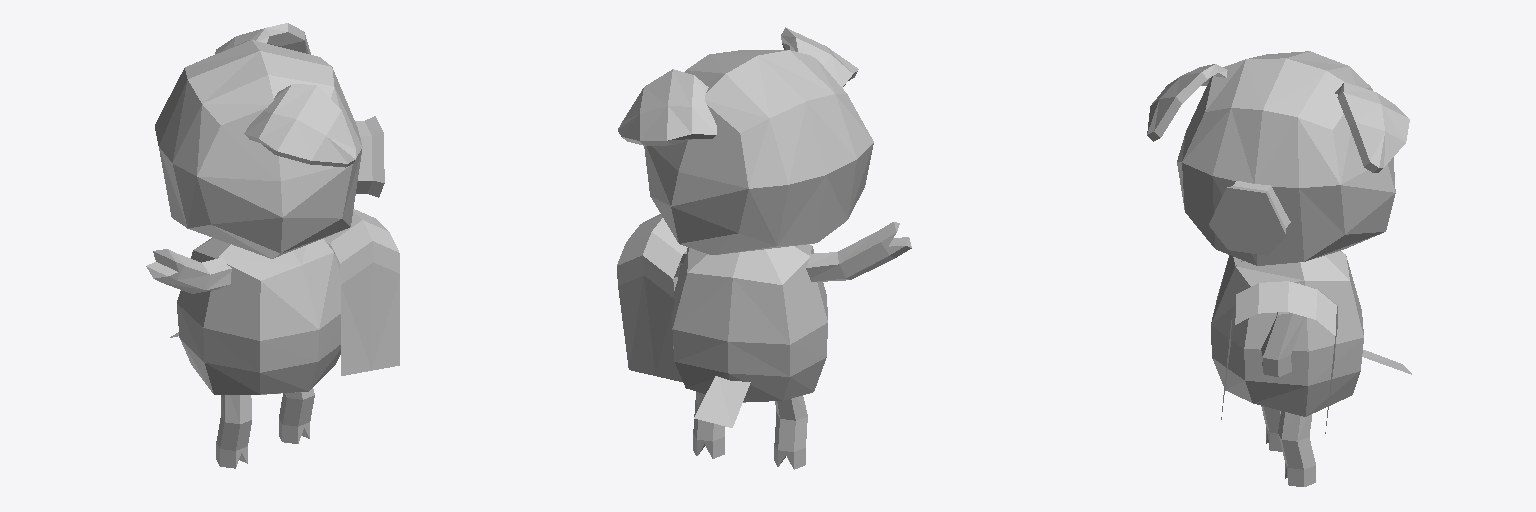
File: shower pig 2.obj
3 views of the same model, side by side, from view 1: azimuth 30°, elevation 25°; view 2: azimuth 150°, elevation 25°; view 3: azimuth 270°, elevation 25° (orthographic).
Parts seen in each view (by area): view 1: pCube200; view 2: pCube200; view 3: pCube200.
Boxes of the visible parts, box(x1,y1,x2,y2) form: pCube200: box(146, 23, 399, 468); pCube200: box(617, 27, 911, 469); pCube200: box(1147, 51, 1411, 486).
Bounding box in the file's own units: 1.17 × 1.81 × 1.09.